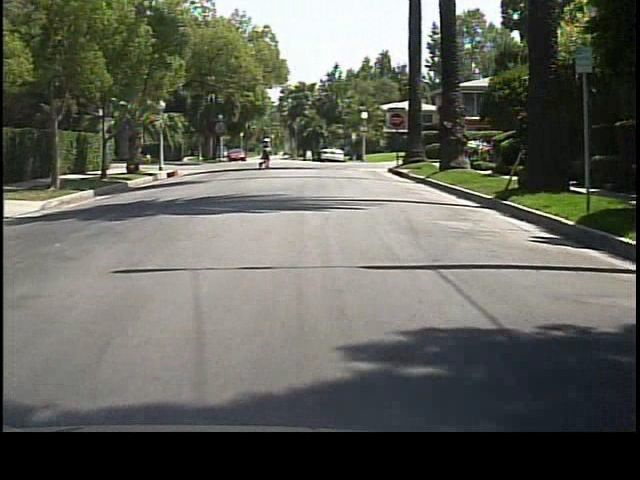person: (259, 134, 274, 169)
